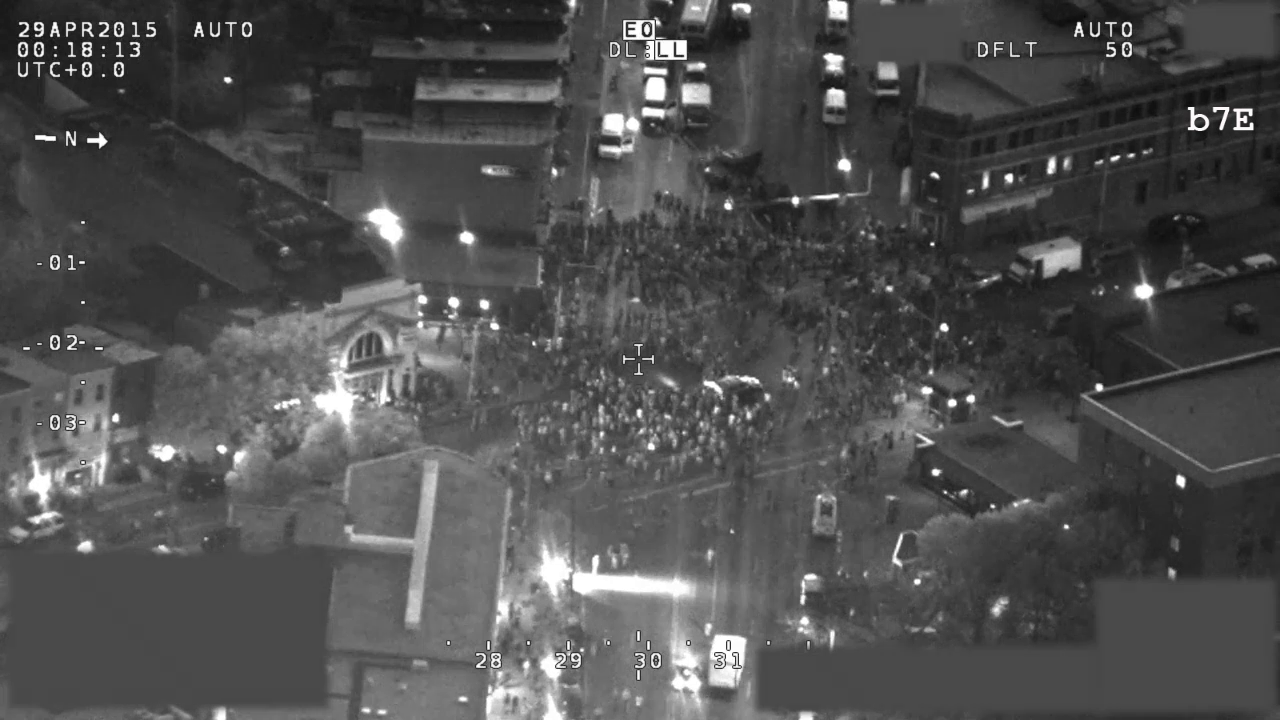vehicle: (1002, 231, 1086, 296), (1140, 205, 1211, 251), (698, 367, 769, 412), (704, 627, 749, 694), (702, 140, 764, 186), (679, 55, 715, 133), (636, 76, 681, 134), (595, 111, 641, 166), (5, 510, 70, 546), (174, 470, 231, 507), (1087, 229, 1139, 269), (795, 566, 833, 620), (819, 83, 853, 128), (872, 56, 903, 105), (810, 489, 839, 539), (821, 1, 853, 40), (818, 50, 851, 82)
